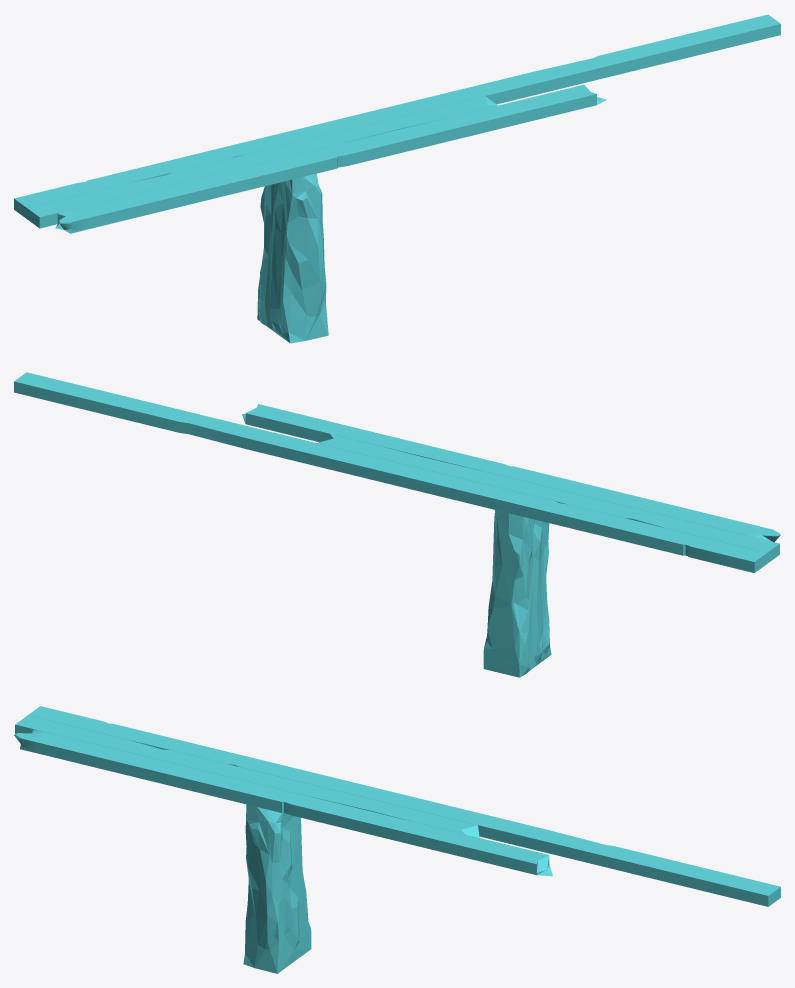
File: New_platform3.fbx
3 views of the same model, one above another, from view 1: azimuth 30°, elevation 25°; view 2: azimuth 150°, elevation 25°; view 3: azimuth 330°, elevation 25° (orthographic).
Visible parts, largest first — view 1: New_platform3; view 2: New_platform3; view 3: New_platform3.
Part boxes in pixels (bbox=[...]): New_platform3: bbox=[14, 14, 780, 343]; New_platform3: bbox=[14, 372, 780, 677]; New_platform3: bbox=[14, 706, 780, 973].
Bounding box in the file's own units: 6091 × 1378 × 541.
